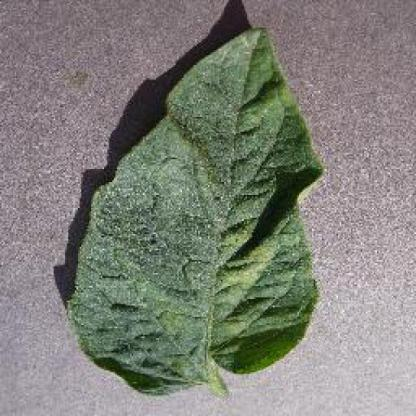Tomato_Spider_Mites: (70, 27, 322, 392)
